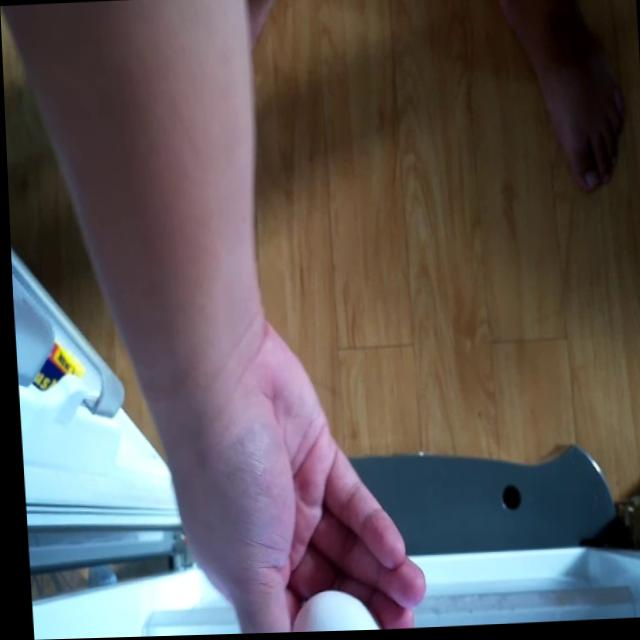egg: (284, 588, 371, 634)
